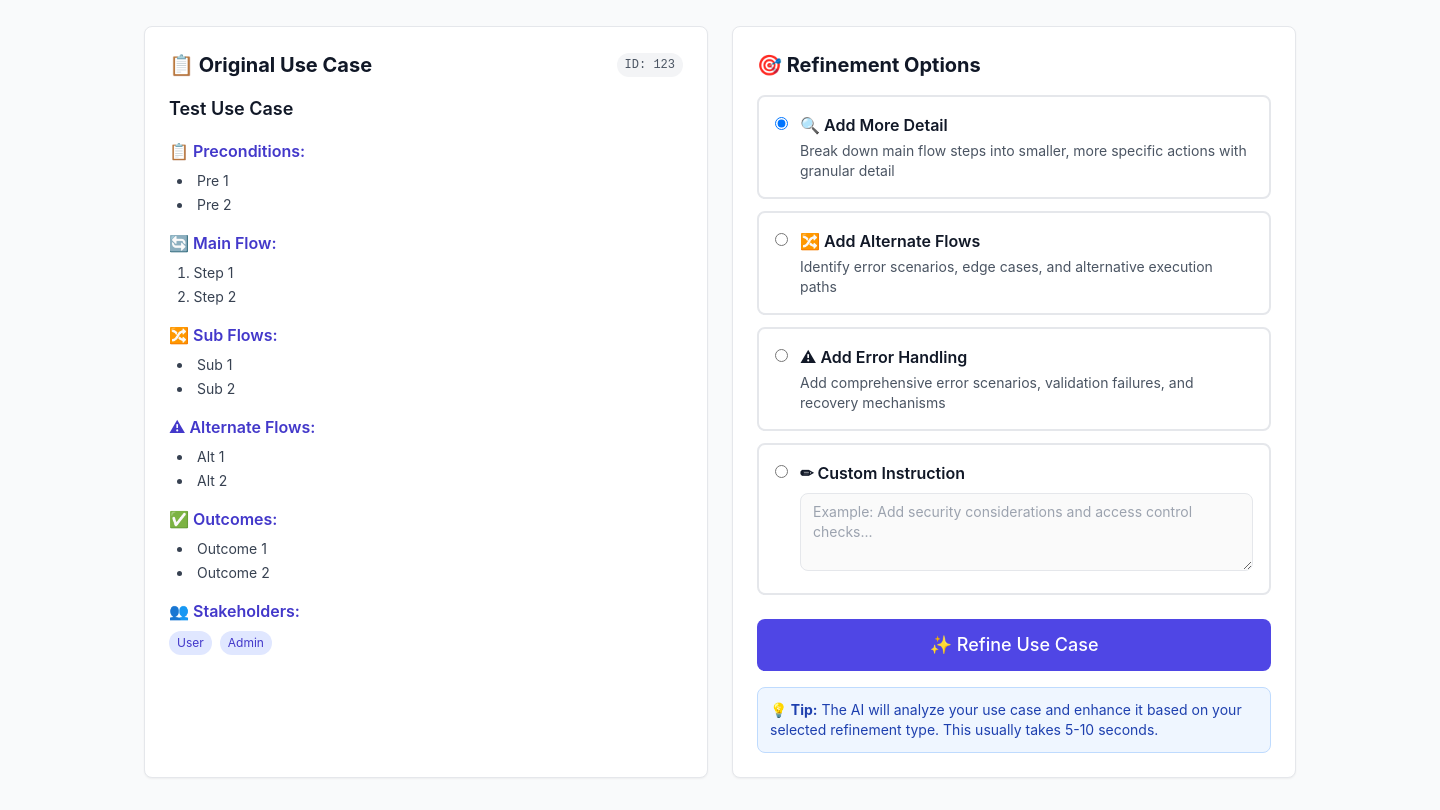
Test: UseCaseRefine Component › Refinement Process › handles successful refinement
The image size is (1440, 810).
(page scrolled)
Click the button "✨ Refine Use Case" at (1014, 645), box [757,619,1271,671]
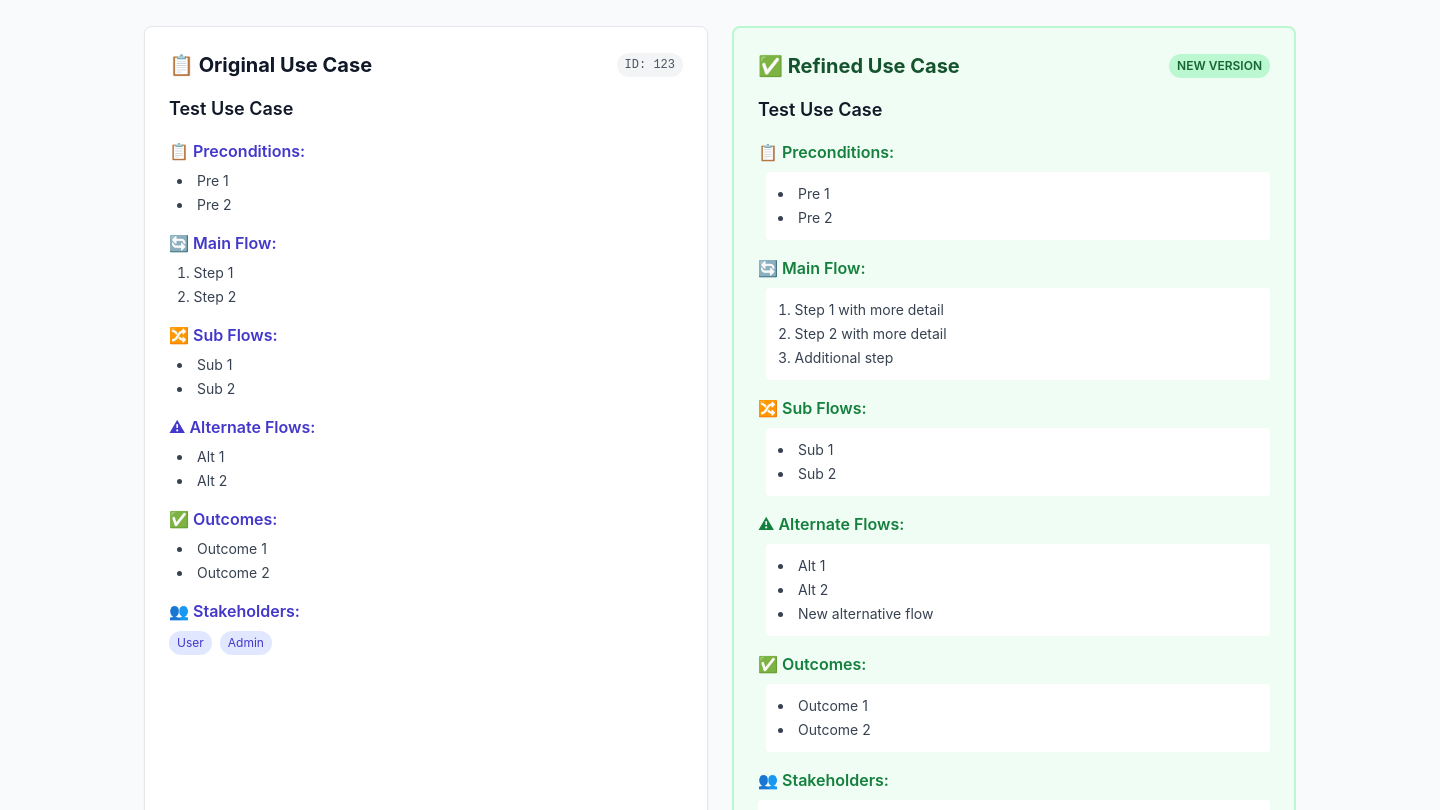
Now the list item "Step 1 with more detail" is shown, box [795,301,944,318]
Now the list item "New alternative flow" is shown, box [798,605,933,622]
